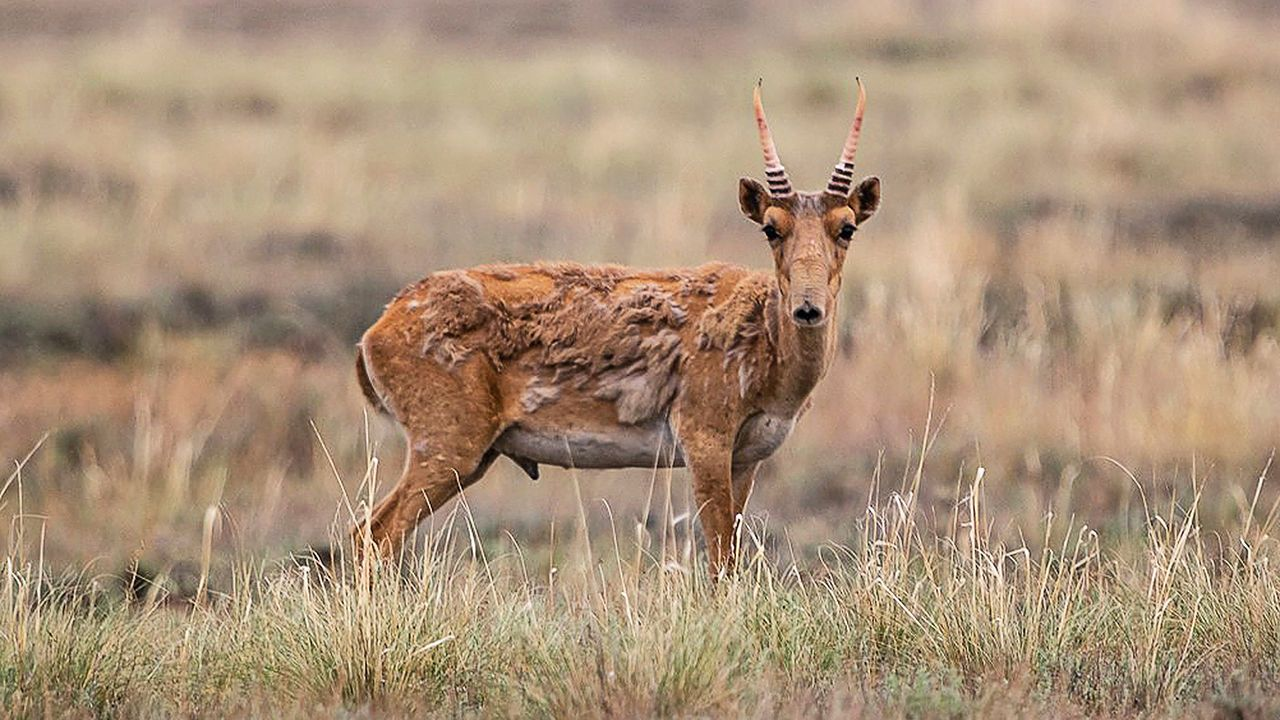saiga: (347, 70, 882, 595)
